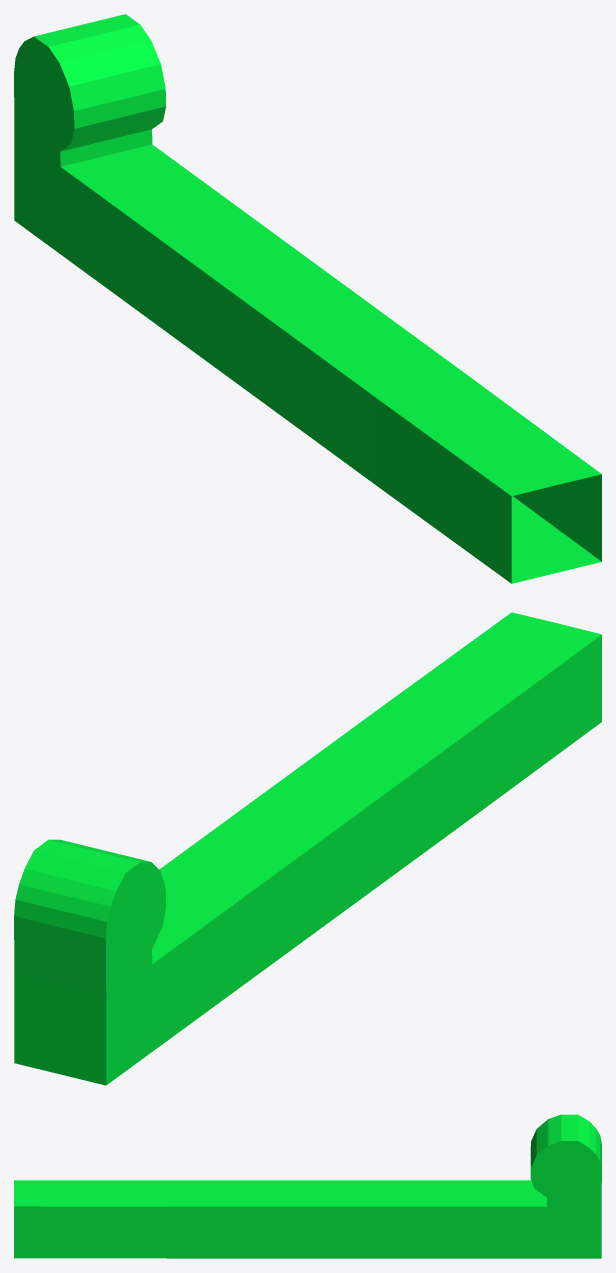
File: Goleiro cauda Tipo 1.fbx
3 views of the same model, one above another, from view 1: azimuth 30°, elevation 25°; view 2: azimuth 150°, elevation 25°; view 3: azimuth 270°, elevation 25° (orthographic). The views are drawn at different scales.
Parts seen in each view (by area): view 1: Goleiro_1_cauda; view 2: Goleiro_1_cauda; view 3: Goleiro_1_cauda.
Boxes of the visible parts, <box> form: Goleiro_1_cauda: <box>14,14,601,583</box>; Goleiro_1_cauda: <box>14,612,601,1085</box>; Goleiro_1_cauda: <box>14,1114,601,1258</box>.
Bounding box in the file's own units: 35.08 × 72.5 × 329.
